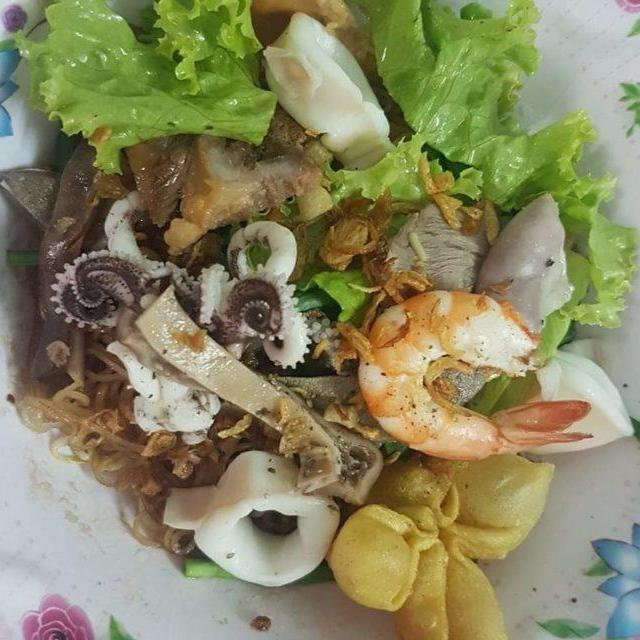muc: (42, 180, 320, 448), (244, 0, 408, 186), (155, 438, 350, 593)
thit heo: (379, 169, 522, 415)
tom: (347, 272, 601, 471)
